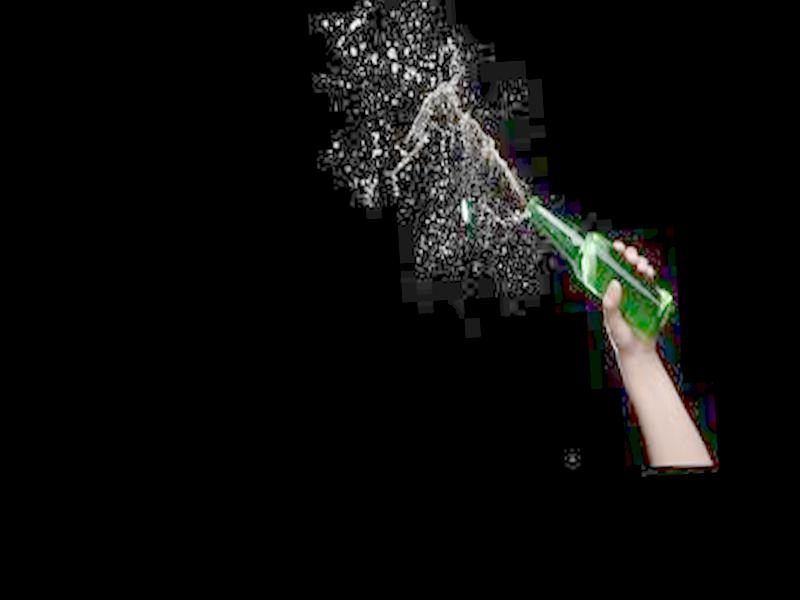Beer: (524, 191, 678, 351)
